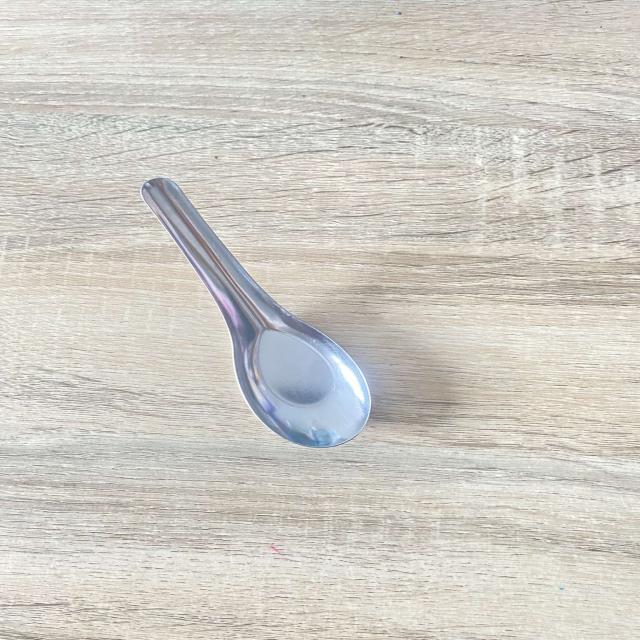short-spoon: (101, 172, 417, 456)
